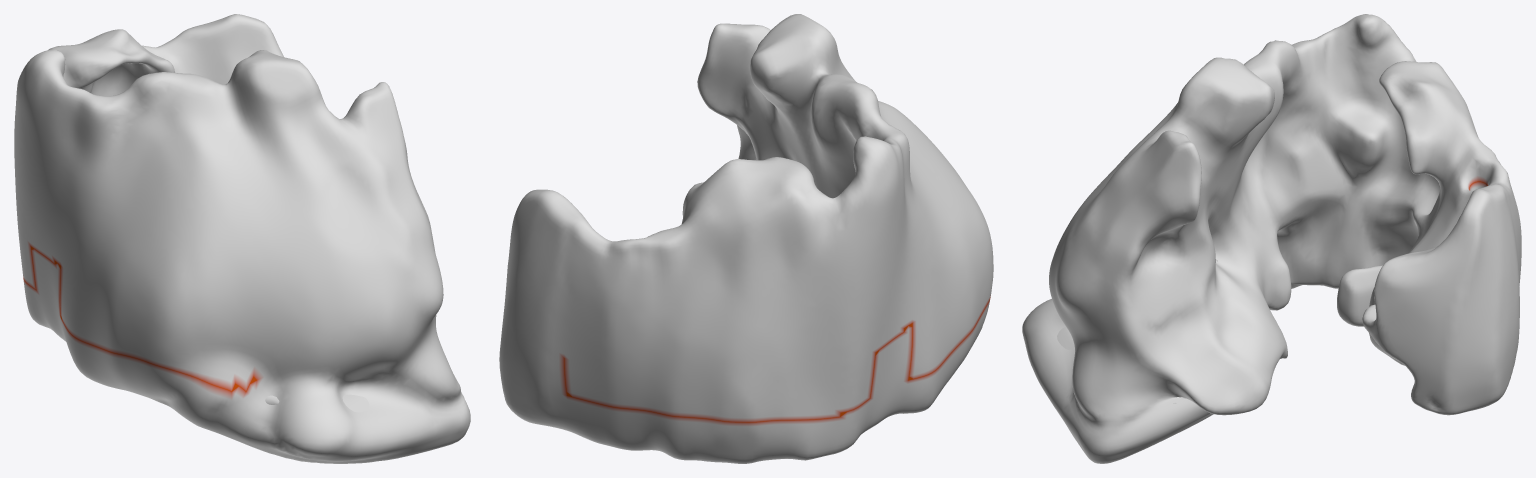
The picture shows the model from 3 angles, left to right: view 1: azimuth 30°, elevation 25°; view 2: azimuth 150°, elevation 25°; view 3: azimuth 270°, elevation 25°; orthographic projection. The views are drawn at different scales.
Parts seen in each view (by area): view 1: Base_Low_SeamsColor; view 2: Base_Low_SeamsColor; view 3: Base_Low_SeamsColor.
Boxes of the visible parts, bbox=[...] form: Base_Low_SeamsColor: bbox=[14, 14, 470, 463]; Base_Low_SeamsColor: bbox=[499, 14, 993, 463]; Base_Low_SeamsColor: bbox=[1022, 14, 1521, 463].
Bounding box in the file's own units: 1.5 × 1.6 × 2.11.
